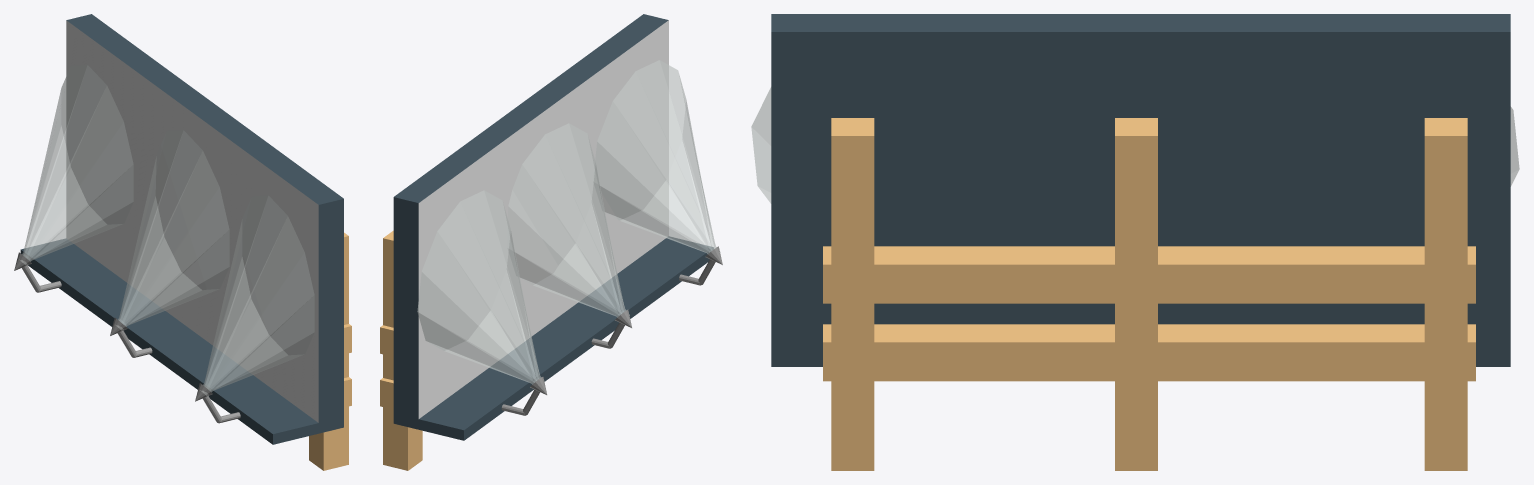
The model's file is Blank Billboard.glb.
3 views of the same model, side by side, from view 1: azimuth 30°, elevation 25°; view 2: azimuth 150°, elevation 25°; view 3: azimuth 270°, elevation 25° (orthographic). The views are drawn at different scales.
Visible parts, largest first — view 1: Node; view 2: Node; view 3: Node.
Part boxes in pixels (x1,y1,x2,y2): Node: [14, 14, 351, 470]; Node: [380, 14, 722, 470]; Node: [751, 14, 1519, 470].
Size of the model in its own units: 0.2791 by 0.54 by 0.8939.
